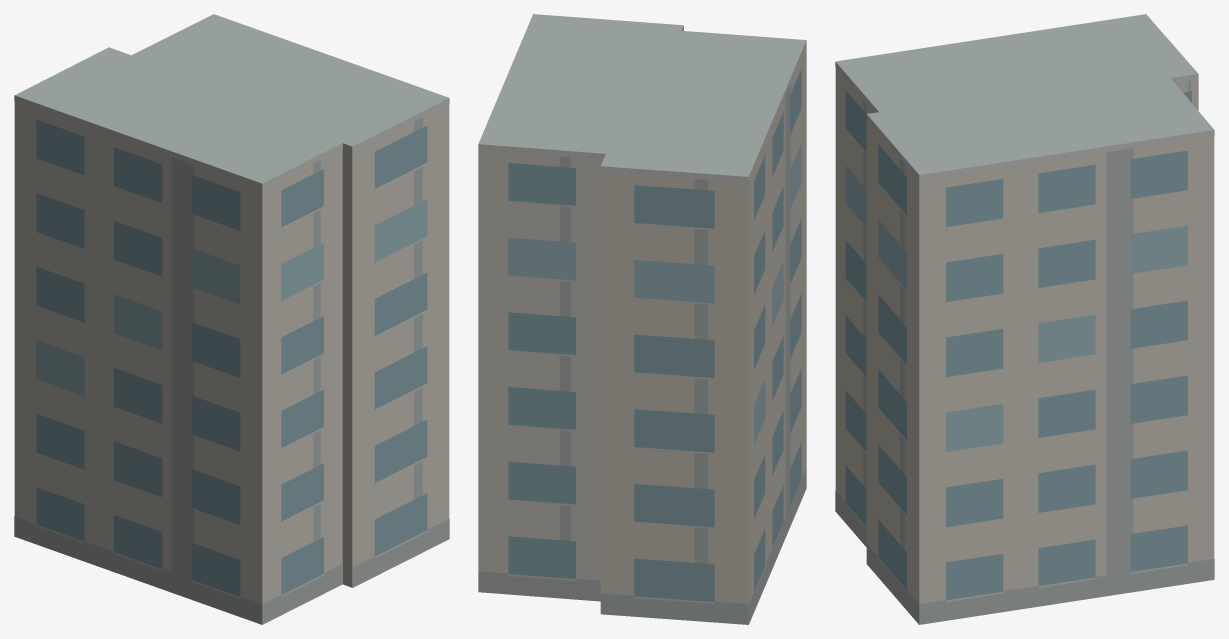
Rendered from survey-upis-32853656.glb.
3 views of the same model, side by side, from view 1: azimuth 30°, elevation 25°; view 2: azimuth 150°, elevation 25°; view 3: azimuth 270°, elevation 25° (orthographic).
Visible parts, largest first — view 1: survey-upis-32853656.tmp; view 2: survey-upis-32853656.tmp; view 3: survey-upis-32853656.tmp.
Part boxes in pixels (x1=…): survey-upis-32853656.tmp: x1=14, y1=14, x2=449, y2=624; survey-upis-32853656.tmp: x1=478, y1=14, x2=806, y2=624; survey-upis-32853656.tmp: x1=835, y1=14, x2=1214, y2=624.
Bounding box in the file's own units: 14.05 × 18.3 × 13.98.
